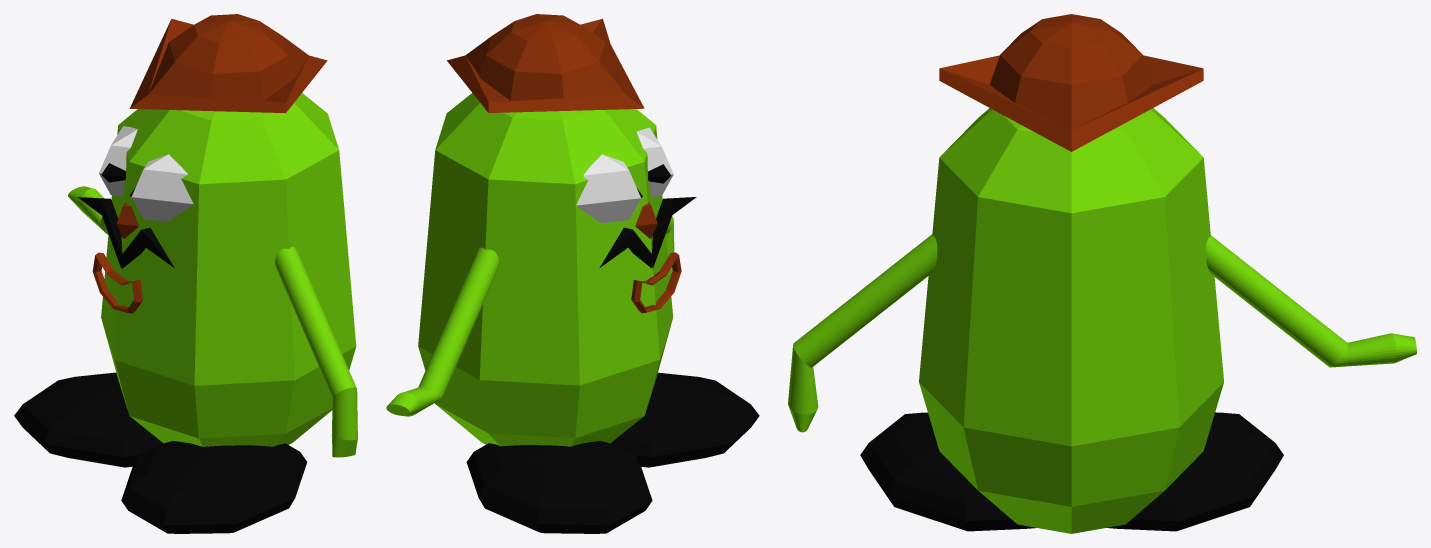
The model's file is toy1green.fbx.
3 renders of one model, left to right at view 1: azimuth 30°, elevation 25°; view 2: azimuth 150°, elevation 25°; view 3: azimuth 270°, elevation 25°, orthographic. The views are drawn at different scales.
Parts seen in each view (by area): view 1: Sphere; view 2: Sphere; view 3: Sphere.
Part boxes in pixels (x1,y1,x2,y2): Sphere: (14, 14, 357, 533); Sphere: (386, 14, 759, 533); Sphere: (788, 14, 1416, 533).
Size of the model in its own units: 228 by 372 by 412.
